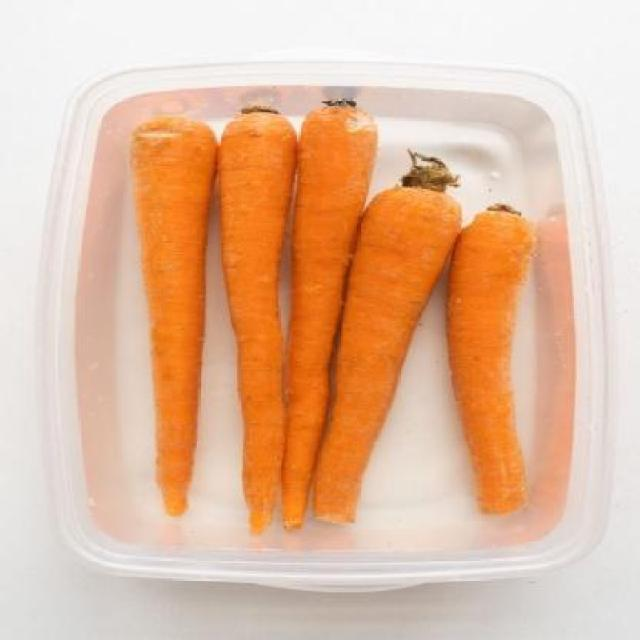carrot: (314, 178, 470, 536), (273, 98, 389, 544), (125, 103, 209, 531), (448, 177, 534, 535), (225, 100, 285, 537)
